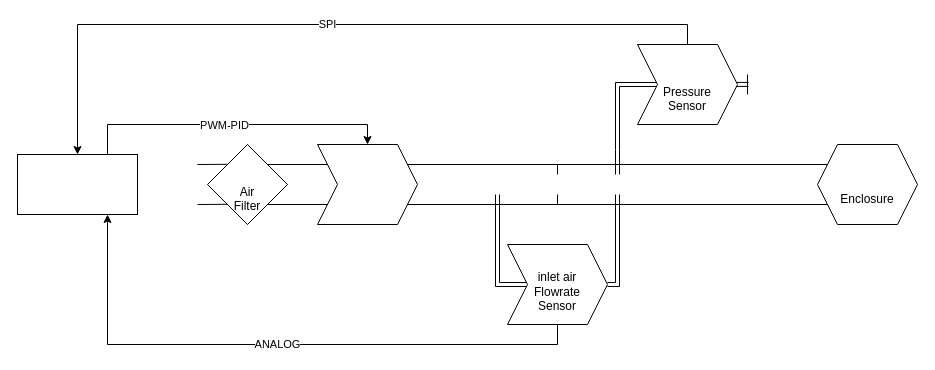
Image size: 935x370. Some labels were removed from this diagram. The shapes that lost their labels are listed below. From the top down, each one's centre as x and y in pixels, then its label:
At (x=77, y=184): "Microcontroller".
At (x=367, y=184): "Turbine".
